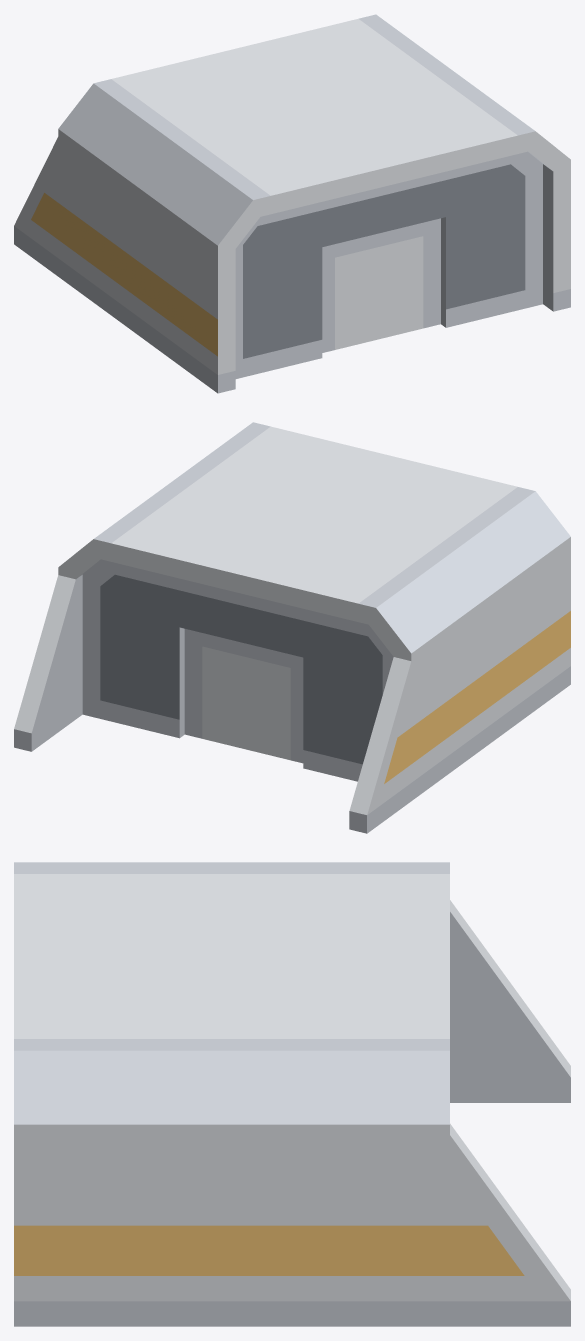
The model's file is hangar_smallB.glb.
3 views of the same model, one above another, from view 1: azimuth 30°, elevation 25°; view 2: azimuth 150°, elevation 25°; view 3: azimuth 270°, elevation 25° (orthographic). The views are drawn at different scales.
Parts seen in each view (by area): view 1: hangar_smallB, gate.006; view 2: hangar_smallB, gate.007; view 3: hangar_smallB.
Boxes of the visible parts, x1,y1,x2,y2 form: hangar_smallB: (14,14,570,393); gate.006: (235,151,542,378); hangar_smallB: (14,422,570,833); gate.007: (82,559,393,781); hangar_smallB: (14,862,570,1326).
Size of the model in its own units: 2 by 1 by 2.
